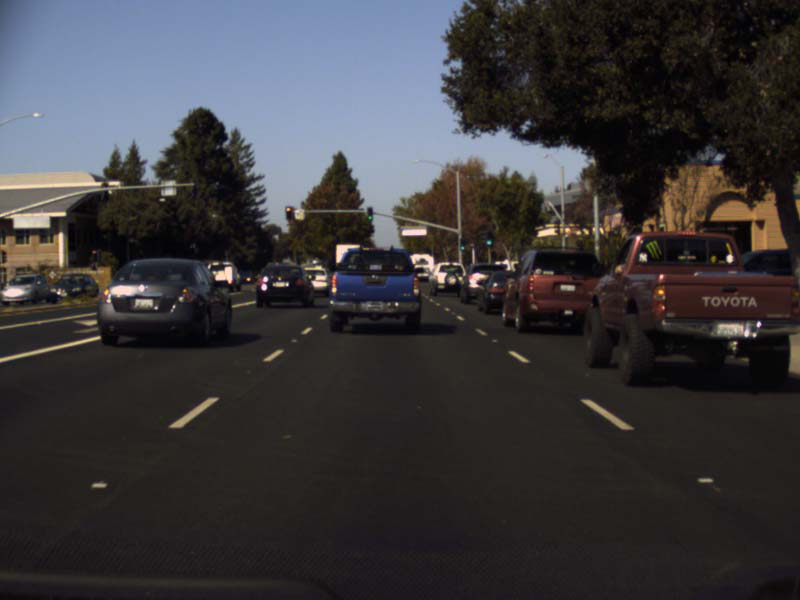Green: (485, 231, 493, 246), (367, 207, 373, 220), (460, 238, 464, 250)
Red: (285, 206, 291, 219)
